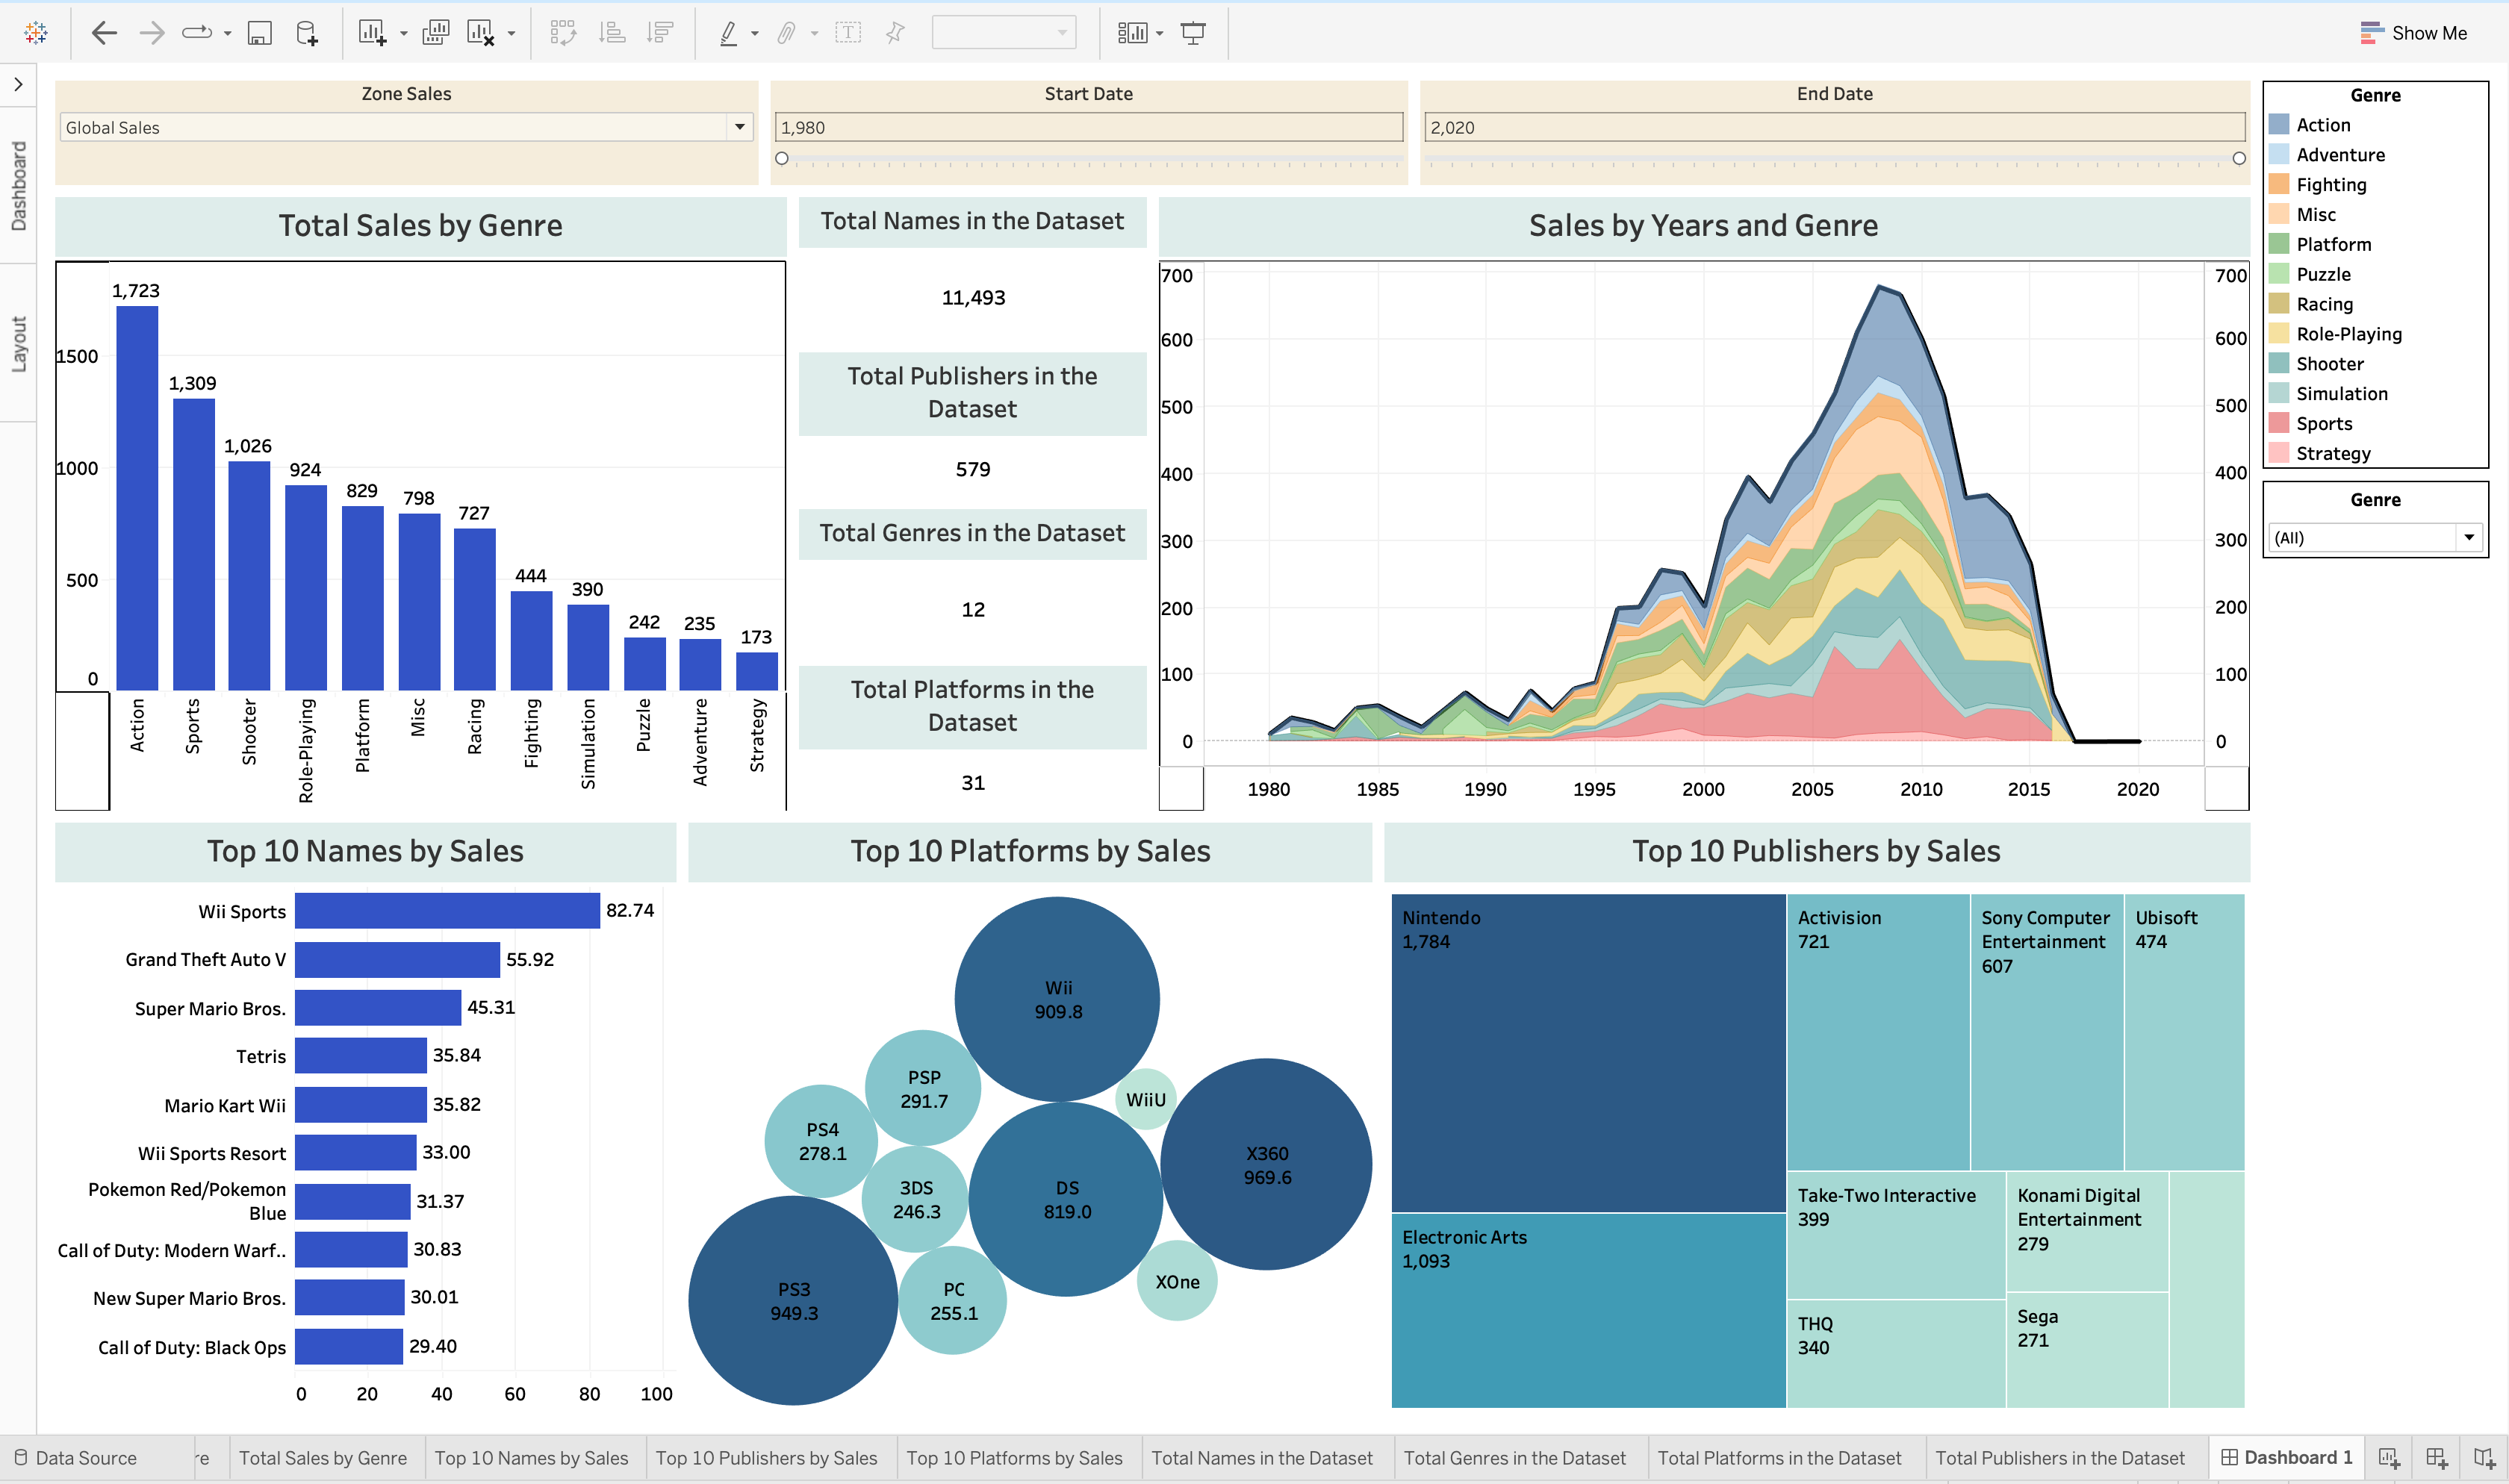

The dashboard page shown, as its layout file describes it:
{"tool":"tableau","page":{"name":"Dashboard 1","canvas":[1000,1000],"units":"permille","ordinal":0},"visuals":[{"type":"parameter","param":"[Parameters].[Parameter 1]","box":[5,9.2,288.6,84.4]},{"type":"parameter","param":"[Parameters].[Parameter 2]","box":[293.6,9.2,262.4,84.4]},{"type":"parameter","param":"[Parameters].[Parameter 3]","box":[556,9.2,339.7,84.4]},{"type":"legend","title":"Sales by Years and Genre","param":"[federated.0hoo87r1pur4ol1ei0u5w16lvwg1].[none:Genre:nk]","box":[895.6,9.2,99.4,309.8]},{"type":"worksheet","title":"Total Sales by Genre","mark":"Automatic","rows":["Calculation_640496334085079040"],"cols":["Genre"],"box":[5,93.6,300.3,456.7]},{"type":"worksheet","title":"Total Names in the Dataset","mark":"Automatic","box":[305.3,93.6,145,114.2]},{"type":"worksheet","title":"Sales by Years and Genre","mark":"Automatic","rows":["Calculation_640496334085079040","Calculation_640496334085079040"],"cols":["Year"],"box":[450.3,93.6,445.4,456.7]},{"type":"worksheet","title":"Total Publishers in the Dataset","mark":"Automatic","box":[305.3,207.8,145,114.2]},{"type":"filter","title":"Sales by Years and Genre","param":"[federated.0hoo87r1pur4ol1ei0u5w16lvwg1].[none:Genre:nk]","box":[895.6,319.1,99.4,69.4]},{"type":"worksheet","title":"Total Genres in the Dataset","mark":"Automatic","box":[305.3,322,145,114.2]},{"type":"worksheet","title":"Total Platforms in the Dataset","mark":"Automatic","box":[305.3,436.1,145,114.2]},{"type":"worksheet","title":"Top 10 Names by Sales","mark":"Automatic","rows":["Name"],"cols":["Calculation_640496334085079040"],"box":[5,550.3,255.3,440.5]},{"type":"worksheet","title":"Top 10 Platforms by Sales","mark":"Circle","box":[260.2,550.3,281.4,440.5]},{"type":"worksheet","title":"Top 10 Publishers by Sales","mark":"Automatic","box":[541.6,550.3,354.1,440.5]}]}

Visuals, with their boxes on the dashboard's canvas, which has no fixed pixel size, in thousandths of its width and height (x1, y1, x2, y2). These are canvas units, not pixel positions in the 2509x1484 screenshot, which may show the page scaled, cropped or inside an application window:
parameter: bbox(5, 9, 294, 94)
parameter: bbox(294, 9, 556, 94)
parameter: bbox(556, 9, 896, 94)
"Sales by Years and Genre" legend: bbox(896, 9, 995, 319)
"Total Sales by Genre" worksheet: bbox(5, 94, 305, 550)
"Total Names in the Dataset" worksheet: bbox(305, 94, 450, 208)
"Sales by Years and Genre" worksheet: bbox(450, 94, 896, 550)
"Total Publishers in the Dataset" worksheet: bbox(305, 208, 450, 322)
"Sales by Years and Genre" filter: bbox(896, 319, 995, 388)
"Total Genres in the Dataset" worksheet: bbox(305, 322, 450, 436)
"Total Platforms in the Dataset" worksheet: bbox(305, 436, 450, 550)
"Top 10 Names by Sales" worksheet: bbox(5, 550, 260, 991)
"Top 10 Platforms by Sales" worksheet (Circle marks): bbox(260, 550, 542, 991)
"Top 10 Publishers by Sales" worksheet: bbox(542, 550, 896, 991)
